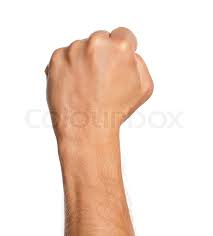hand: (25, 12, 170, 155)
